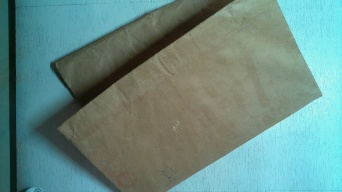l: (48, 3, 329, 192)
